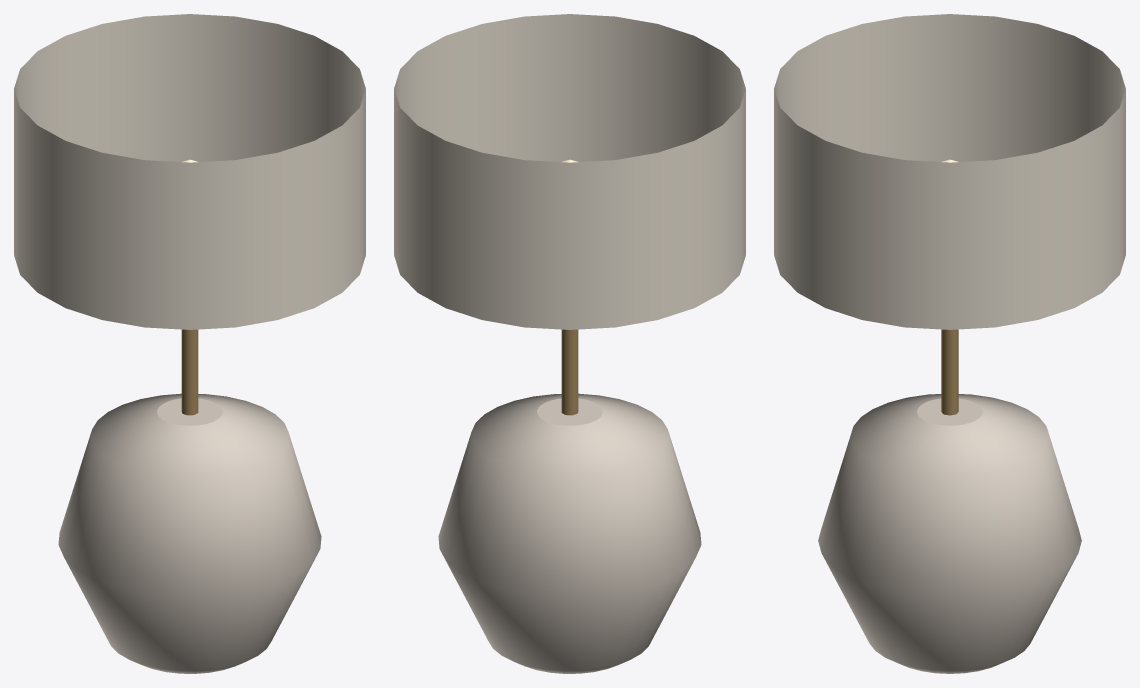
The model's file is CAL-TLP-std.glb.
The picture shows the model from 3 angles, left to right: view 1: azimuth 30°, elevation 25°; view 2: azimuth 150°, elevation 25°; view 3: azimuth 270°, elevation 25°; orthographic projection.
Visible parts, largest first — view 1: CAL-TLP-std; view 2: CAL-TLP-std; view 3: CAL-TLP-std.
Boxes of the visible parts, box(x1,y1,x2,y2) form: CAL-TLP-std: box(14, 14, 365, 673); CAL-TLP-std: box(394, 14, 745, 673); CAL-TLP-std: box(774, 14, 1125, 673).
Size of the model in its own units: 0.32 by 0.56 by 0.32.
